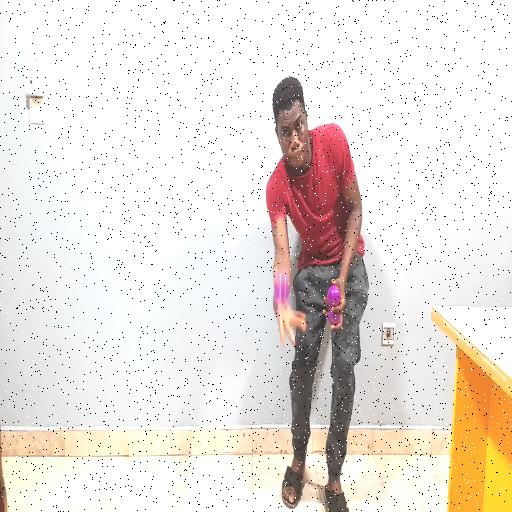plastic-ball: (273, 269, 290, 302)
